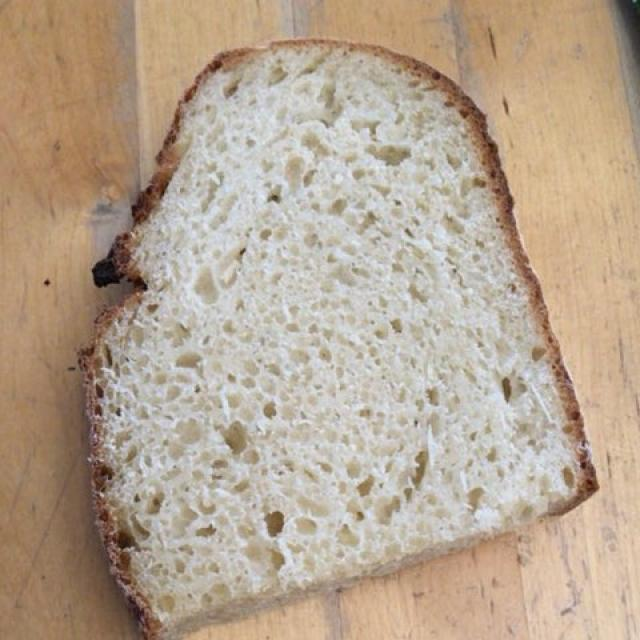bread-white: (87, 50, 585, 626)
